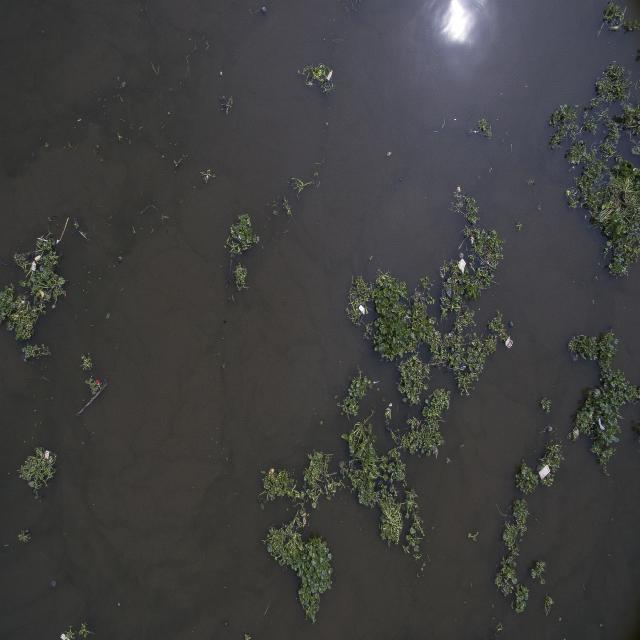plastic: (534, 458, 555, 483), (26, 250, 46, 275), (322, 67, 342, 89), (499, 333, 518, 356), (454, 253, 472, 277), (358, 292, 369, 323), (42, 447, 56, 467)
